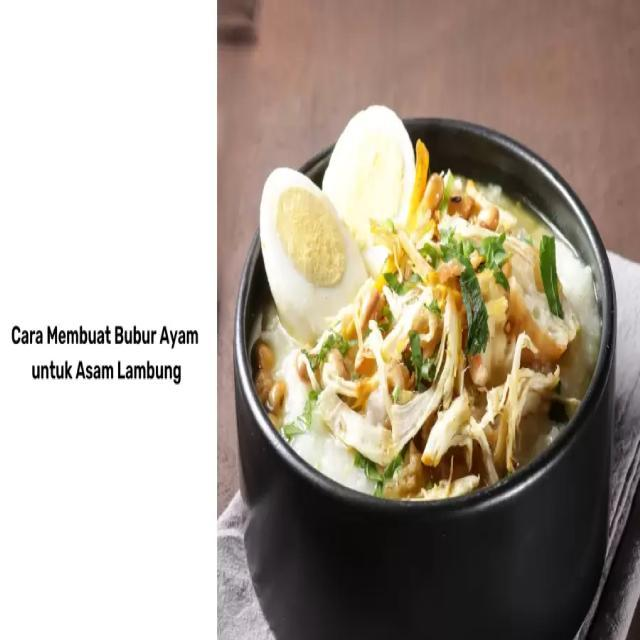bubur ayam: (246, 167, 602, 502)
telur rebus: (258, 165, 368, 348), (321, 106, 418, 252)
